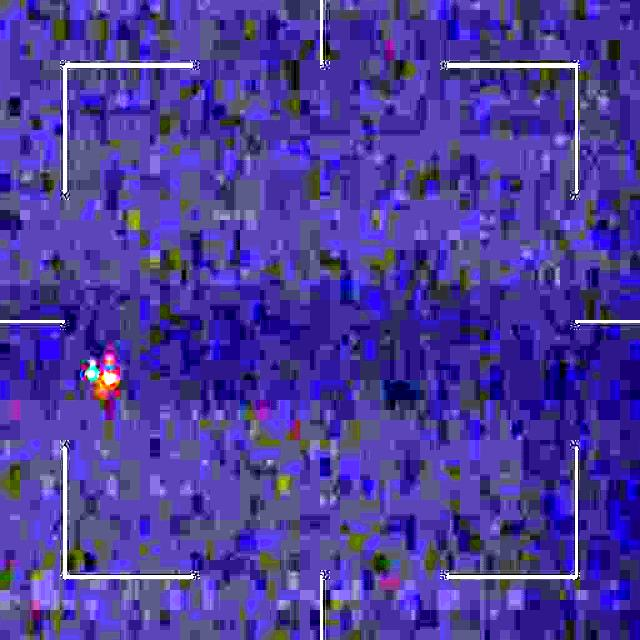bird: (88, 349, 119, 401)
